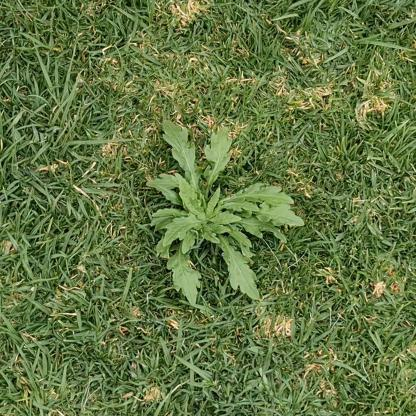Weeds: (147, 117, 305, 310)
